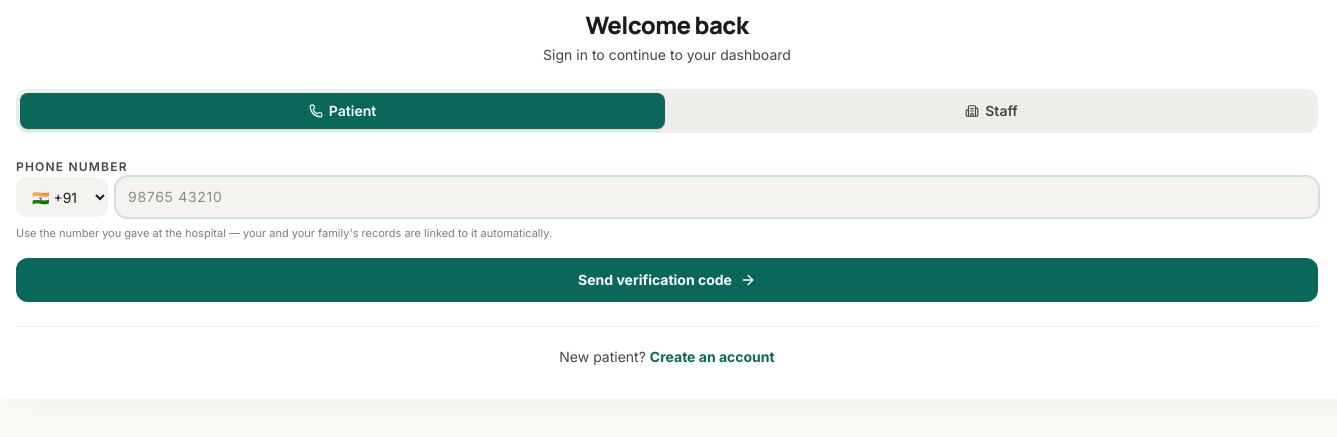
Login page › choosing how to sign in › reveals email + password once Staff is chosen
Click the button "Staff": (992, 111) [669,93,1314,129]
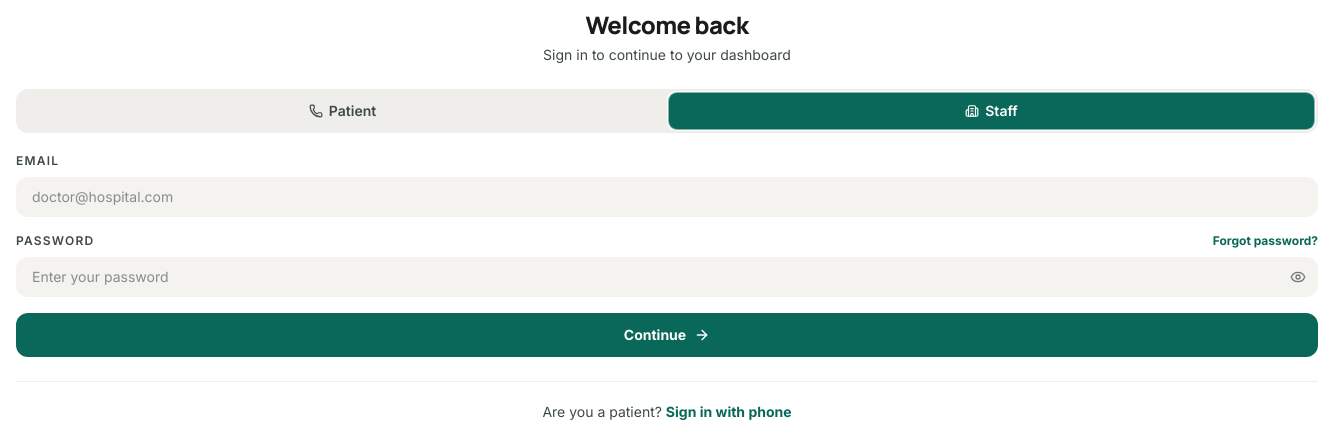
Result: the field labelled "Email" is shown at [16,177,1318,217]
Result: the password field labelled "Password" is shown at [16,257,1318,297]
